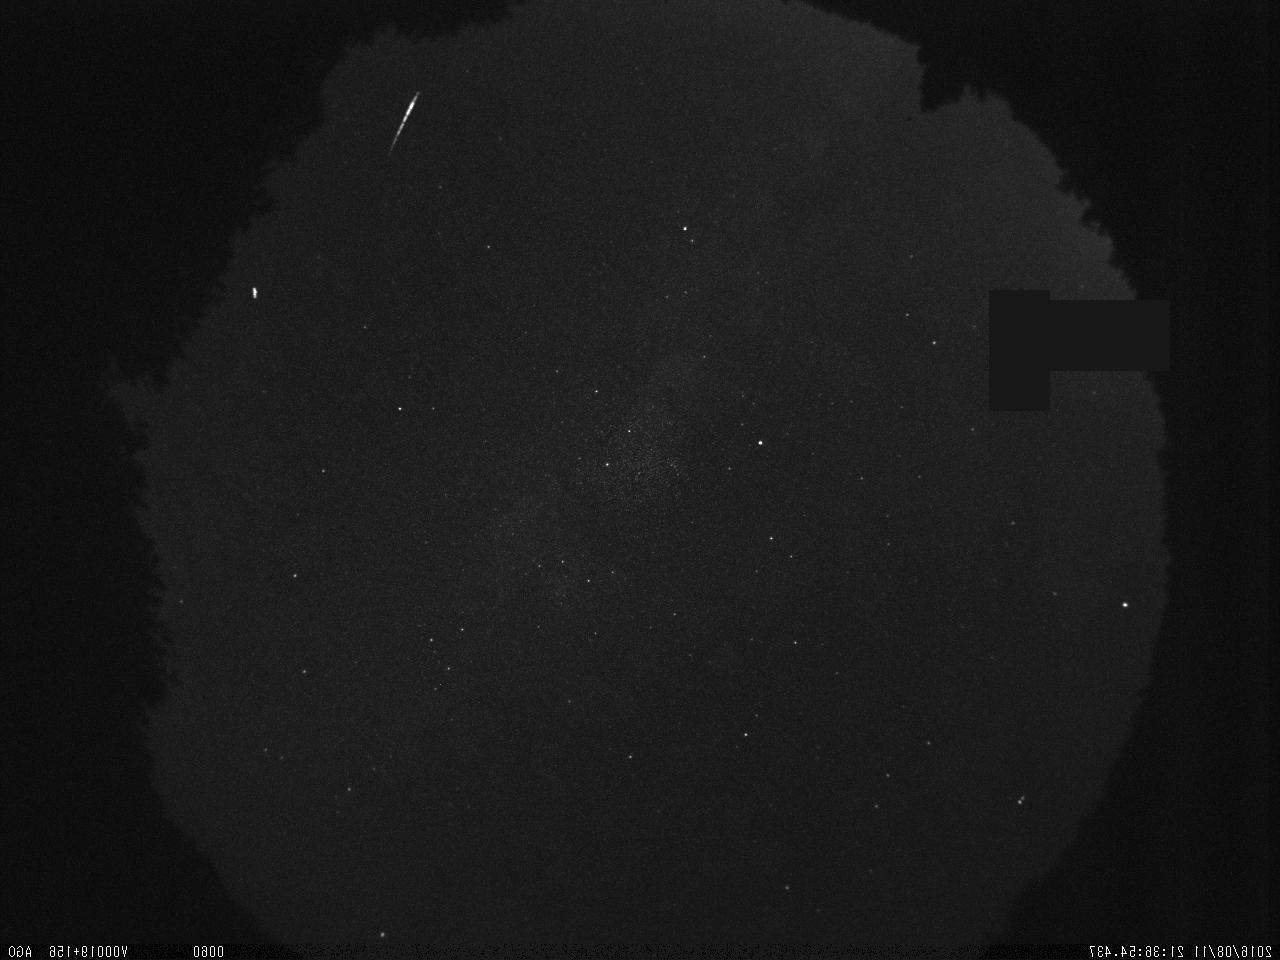meteor: (354, 73, 452, 165)
